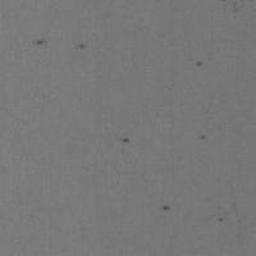Inclusion: (230, 201, 243, 224), (36, 38, 45, 46), (161, 205, 172, 211), (196, 60, 204, 68), (104, 12, 113, 19), (216, 216, 225, 223), (233, 1, 238, 12), (78, 44, 86, 50)
